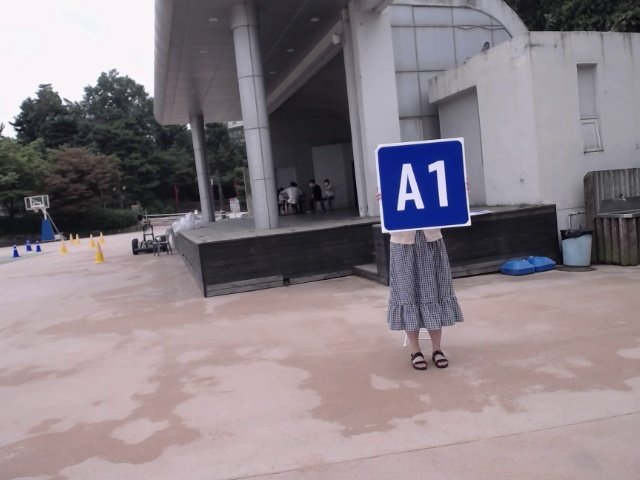delivery_a1: (376, 139, 470, 231)
